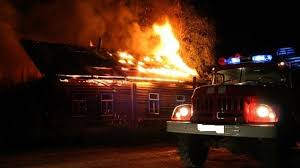fire: (89, 24, 220, 88)
